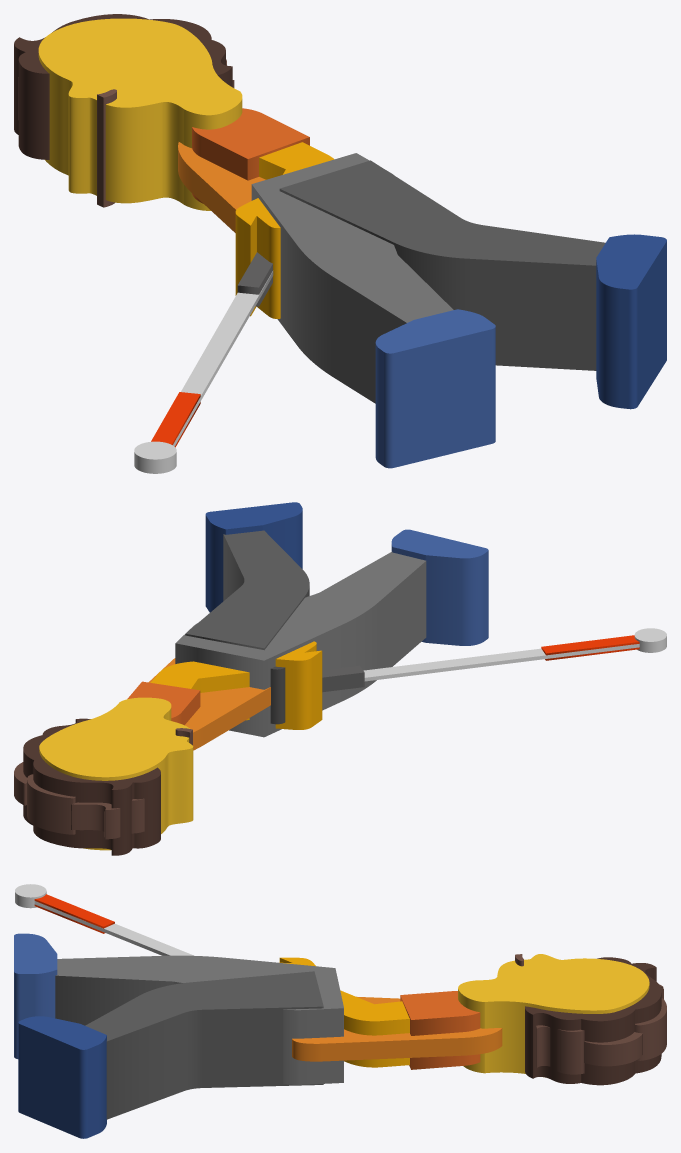
File: emoji_u1f9d1_200d_1f9af.glb
3 views of the same model, one above another, from view 1: azimuth 30°, elevation 25°; view 2: azimuth 150°, elevation 25°; view 3: azimuth 270°, elevation 25° (orthographic). The views are drawn at different scales.
Parts seen in each view (by area): view 1: emoji_u1f9d1_200d_1f9af; view 2: emoji_u1f9d1_200d_1f9af; view 3: emoji_u1f9d1_200d_1f9af.
Part boxes in pixels (x1,y1,x2,y2): emoji_u1f9d1_200d_1f9af: (14,14,666,473); emoji_u1f9d1_200d_1f9af: (14,502,666,855); emoji_u1f9d1_200d_1f9af: (14,884,666,1138).
Bounding box in the file's own units: 0.0247 × 0.005 × 0.0333.
